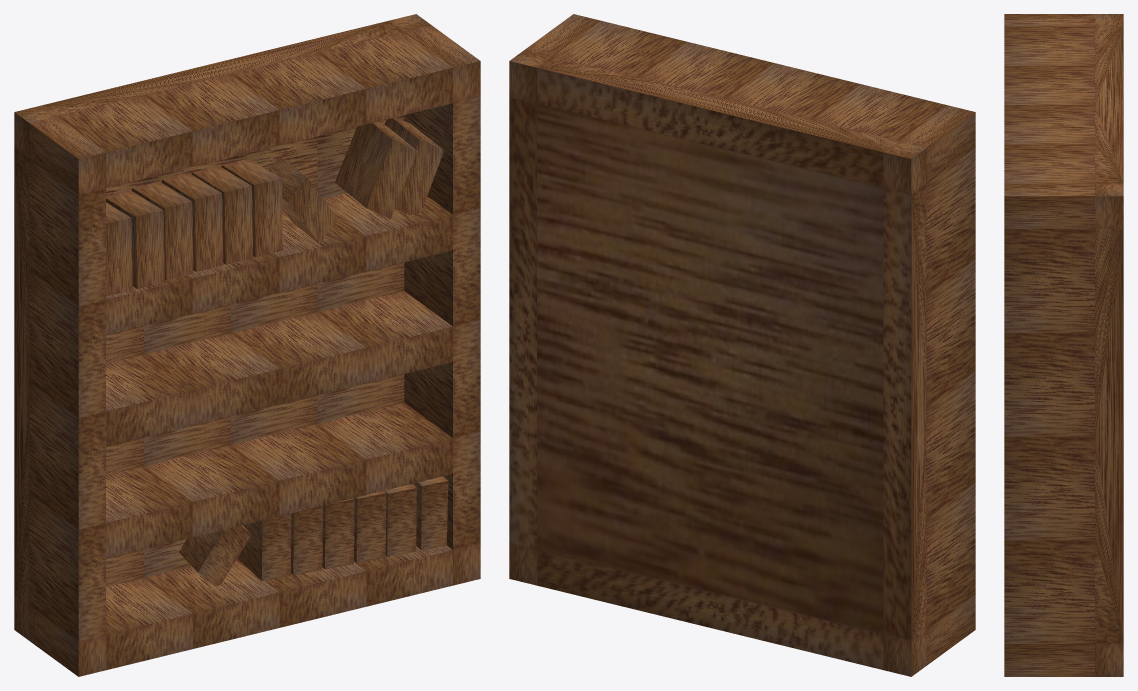
Rendered from bookcase.obj.
The picture shows the model from 3 angles, left to right: view 1: azimuth 30°, elevation 25°; view 2: azimuth 150°, elevation 25°; view 3: azimuth 270°, elevation 25°; orthographic projection. The views are drawn at different scales.
Parts seen in each view (by area): view 1: bookcase; view 2: bookcase; view 3: bookcase.
Boxes of the visible parts, left/top/right/bottom form: bookcase: left=14, top=14, right=480, bottom=676; bookcase: left=509, top=14, right=975, bottom=676; bookcase: left=1004, top=14, right=1123, bottom=676.
Size of the model in its own units: 0.65 by 0.8 by 0.18.
1 material, 1 textured.
